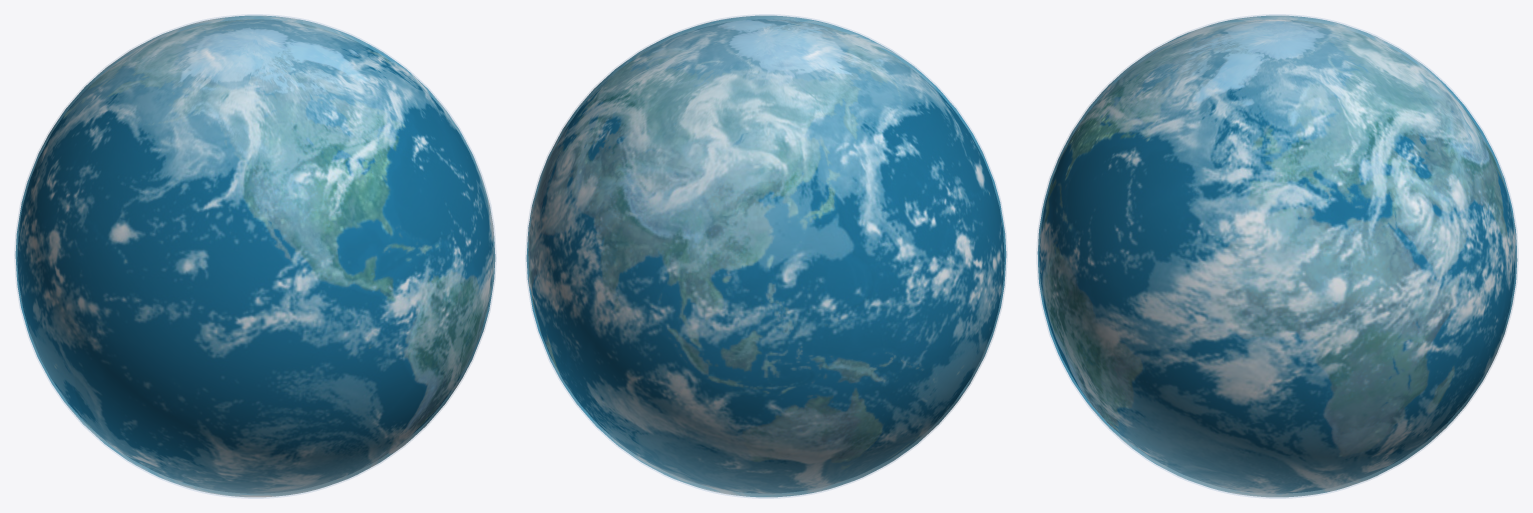
File: earth.glb
The picture shows the model from 3 angles, left to right: view 1: azimuth 30°, elevation 25°; view 2: azimuth 150°, elevation 25°; view 3: azimuth 270°, elevation 25°; orthographic projection.
Visible parts, largest first — view 1: Clouds, Earth, Atmosphere; view 2: Clouds, Earth, Atmosphere; view 3: Clouds, Earth, Atmosphere.
Boxes of the visible parts, <box> form: Clouds: <box>15,15,495,497</box>; Earth: <box>17,19,493,492</box>; Atmosphere: <box>14,14,496,498</box>; Clouds: <box>526,15,1006,497</box>; Earth: <box>528,19,1004,492</box>; Atmosphere: <box>525,14,1007,498</box>; Clouds: <box>1037,15,1517,497</box>; Earth: <box>1039,20,1515,492</box>; Atmosphere: <box>1037,14,1517,498</box>.
Bounding box in the file's own units: 1.79 × 1.81 × 1.79.
Materials: 3 (2 with a texture image).
